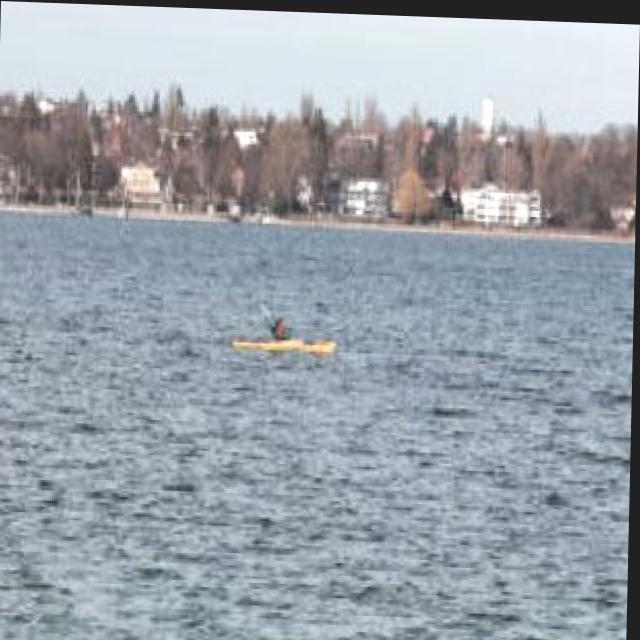kayak: (230, 334, 336, 350)
